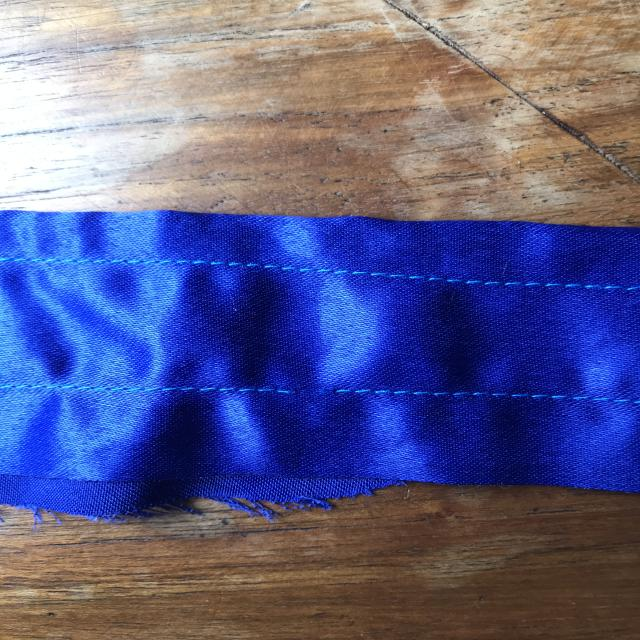broken: (260, 372, 372, 413)
good: (275, 251, 455, 298)
